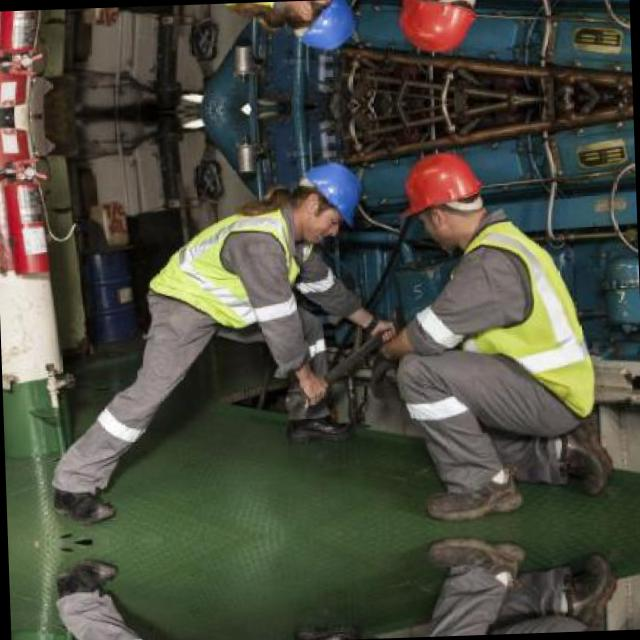helmet: (394, 146, 494, 244), (277, 152, 369, 240), (388, 0, 489, 59), (272, 0, 365, 60)
